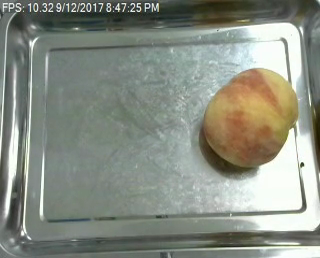Peach: (202, 67, 297, 167)
